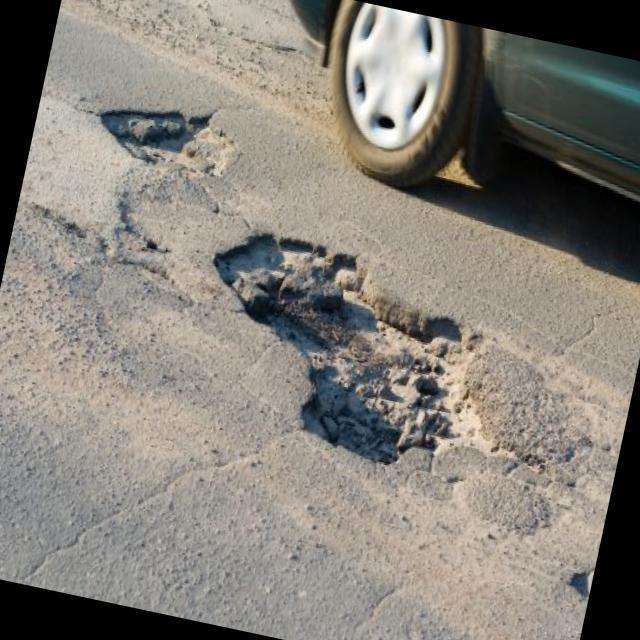Pothole: (141, 188, 624, 582), (62, 44, 261, 222)
